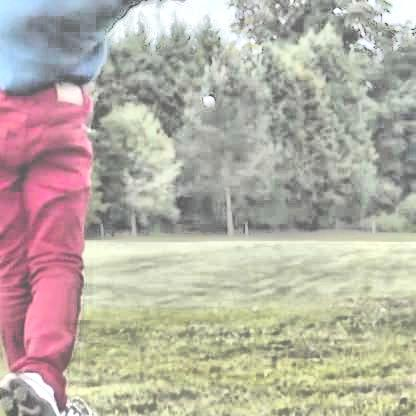golfball: (201, 96, 212, 103)
